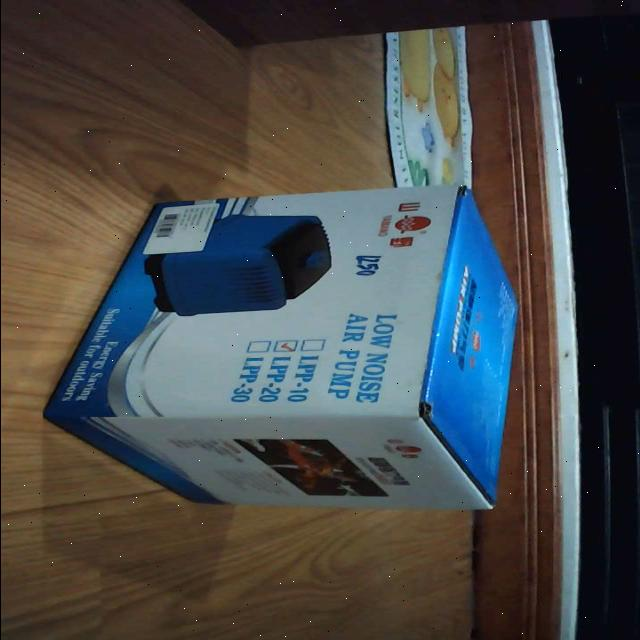YAMANO_LPP_20: (35, 182, 527, 522)
